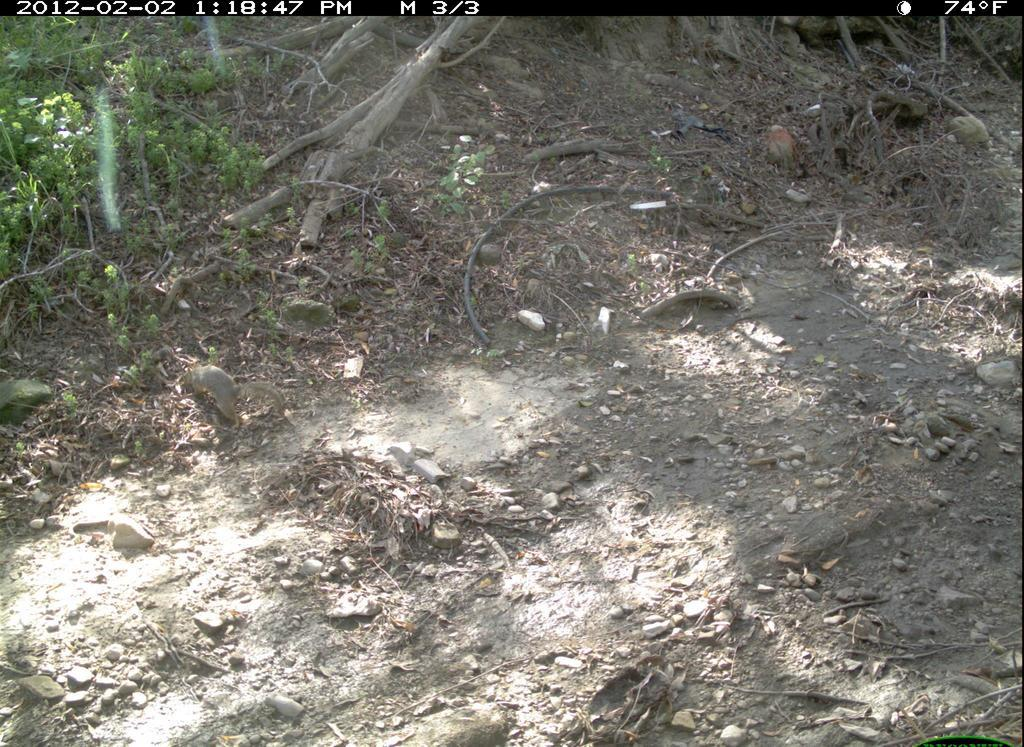squirrel: (159, 347, 303, 452)
